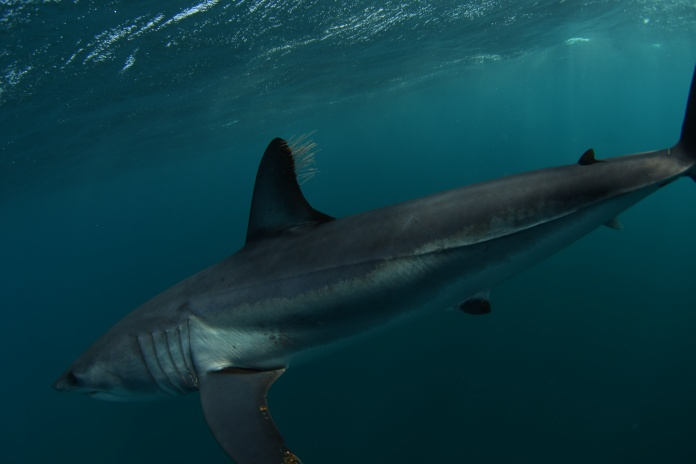Mako: (36, 59, 696, 462)
